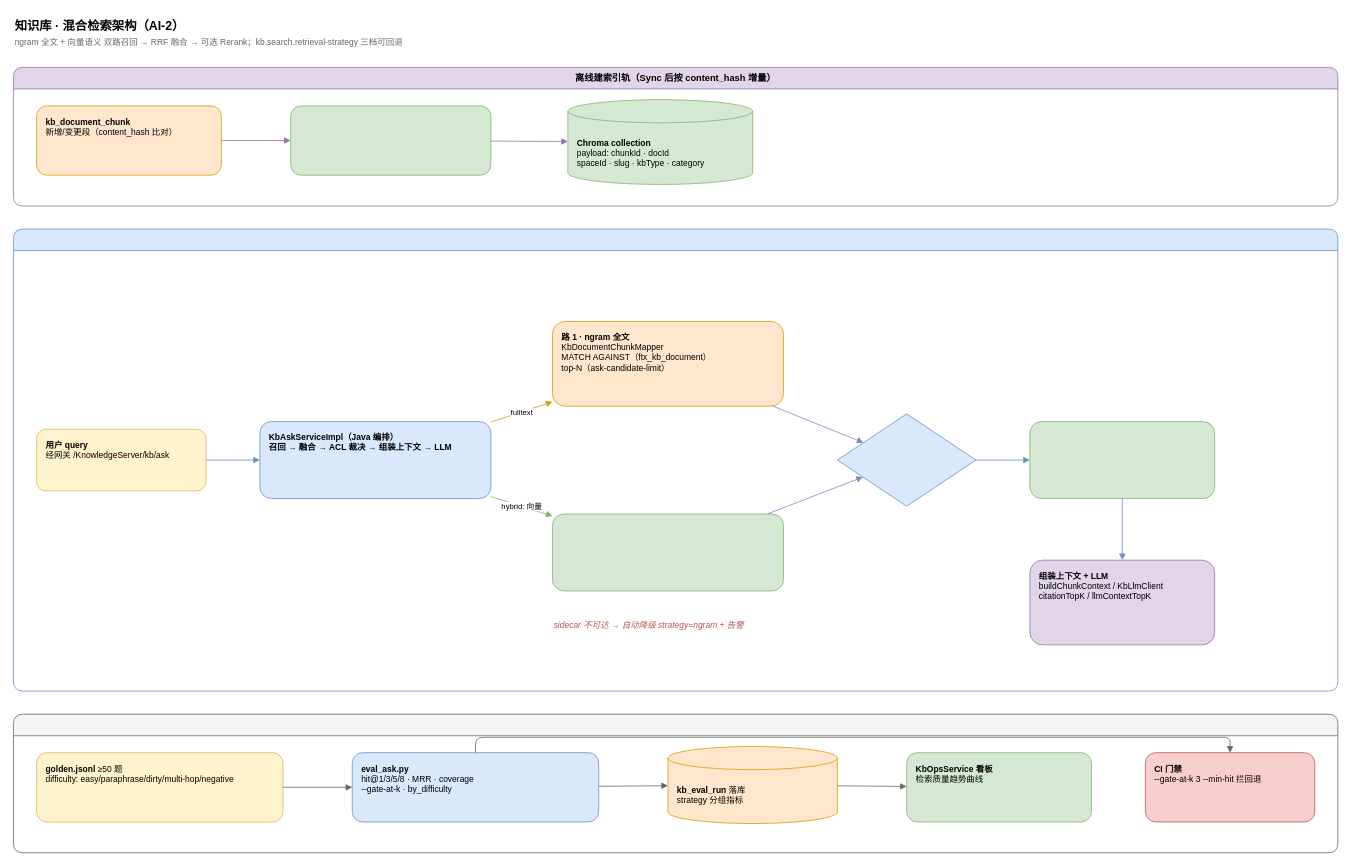
This 1351x866 diagram has some shape labels left out. Each missing label, with the box of its shape:
kb-retrieval /embed bge-m3 批量向量化（Python sidecar）: (290, 105, 491, 175)
Rerank（可选） bge-reranker top-M strategy=hybrid-rerank 时启用: (1029, 421, 1215, 499)
RRF 融合 score = Σ 1/(rrf-k + rank): (837, 413, 976, 506)
在线检索轨（/kb/ask 召回增强，对外响应结构不变）: (13, 228, 1338, 691)
评测回归轨（AI-1 扩容 · AI-3 看板门禁）: (13, 713, 1338, 853)
路 2 · 向量语义 kb-retrieval /search（Chroma） vector.top-n；空间/ACL 初筛: (552, 513, 783, 591)
